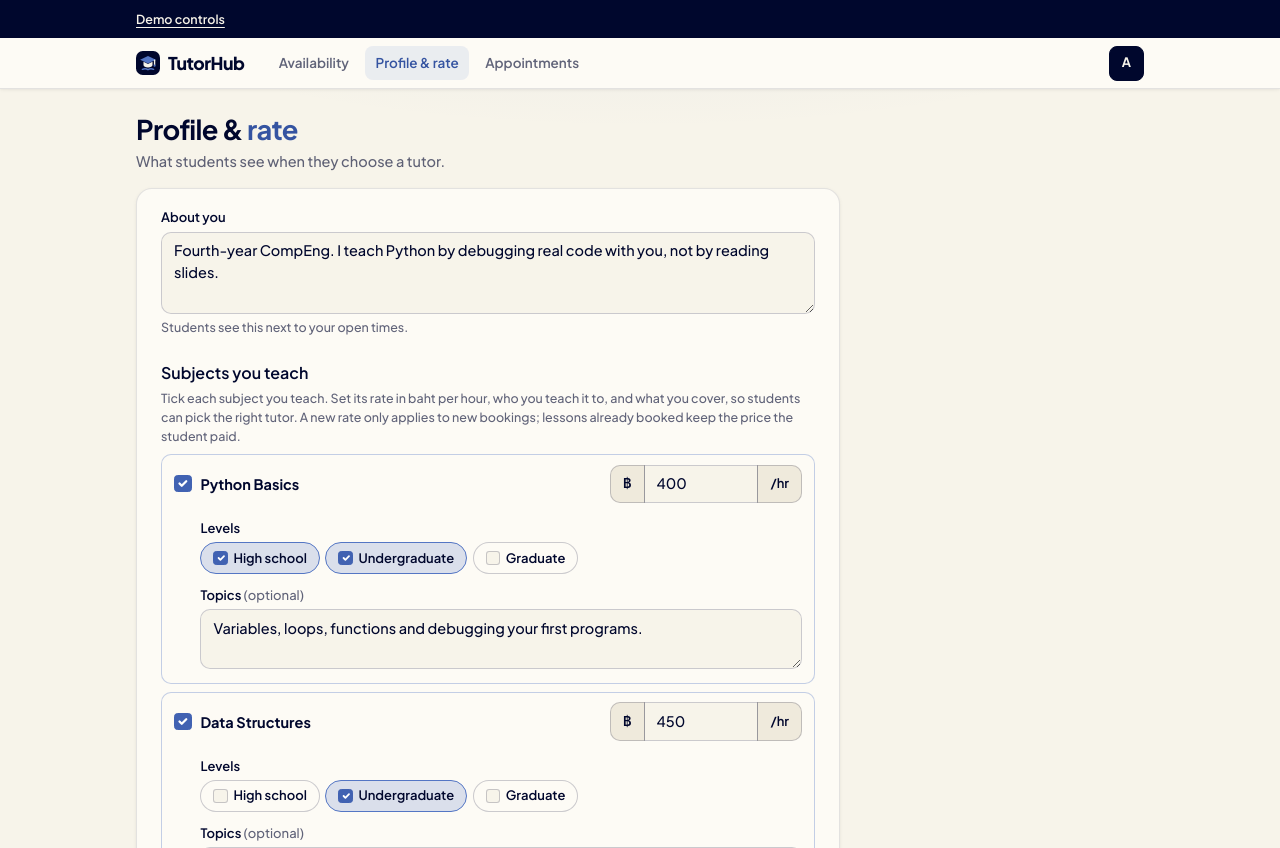
review fixes: headings, filters and field states › flags and focuses an invalid hourly rate on the tutor profile
This screenshot has width=1280, height=848.
Type "0" into the number field named "Rate for Python Basics" in the row of "Python Basics". click: coordinates (701, 484)
box: [644,465,758,503]
(page scrolled)
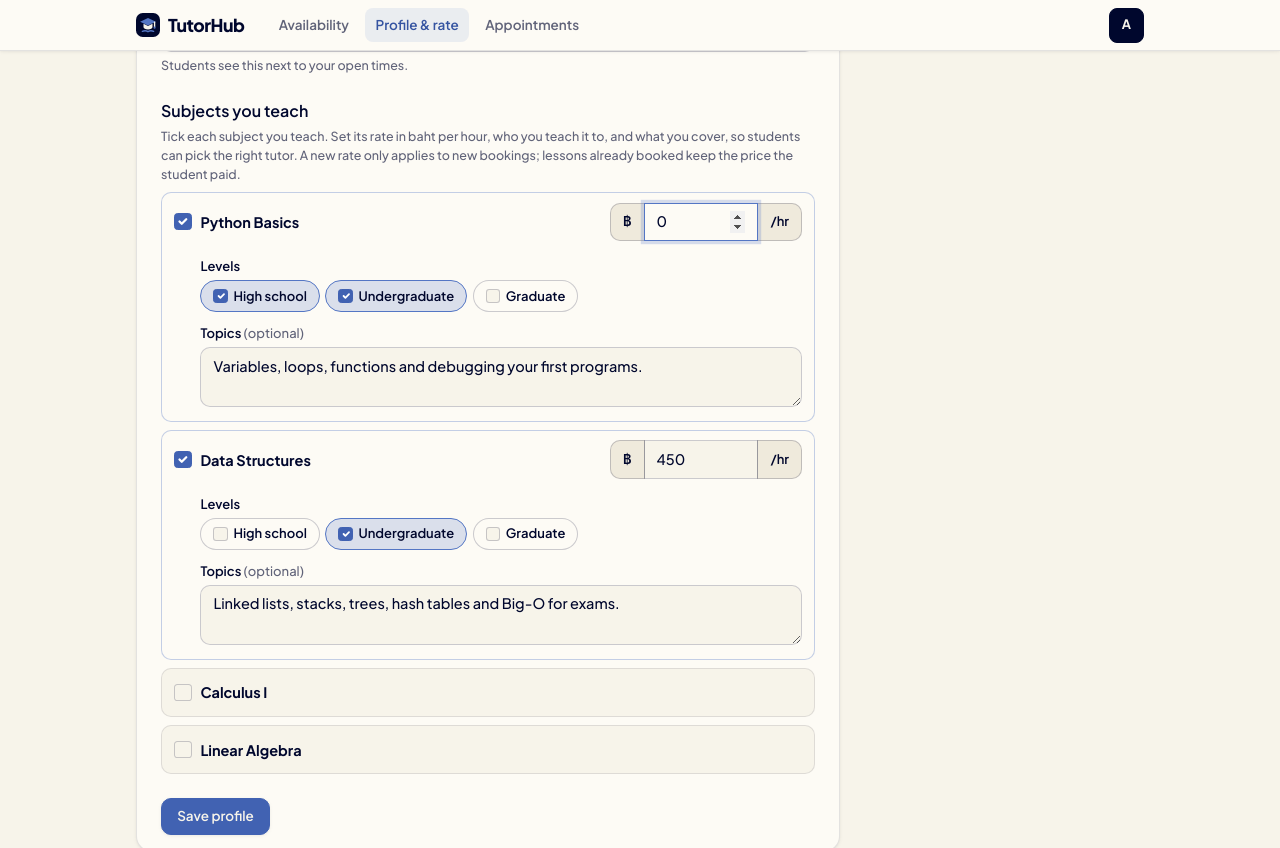
Click the button "Save profile". click: coordinates (215, 816)
box: [161,798,270,835]
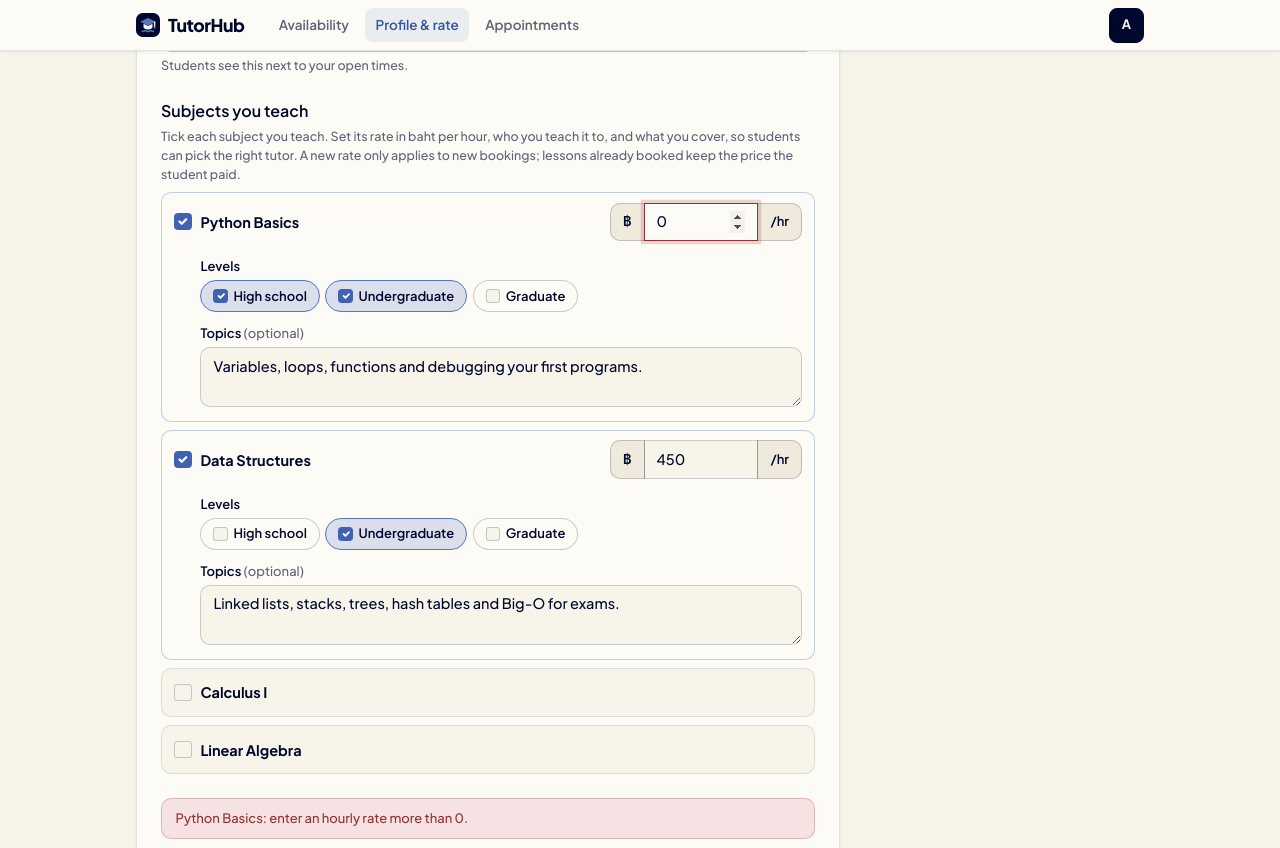
expect the message "Python Basics: enter an hourly rate more than 0." is shown: met, box [161,798,815,839]
